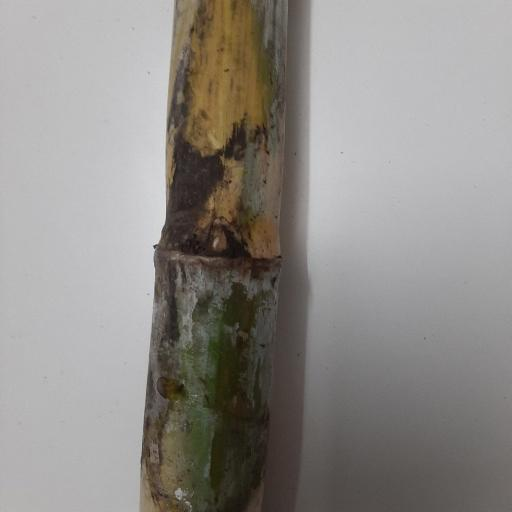Bud: (204, 220, 232, 257)
